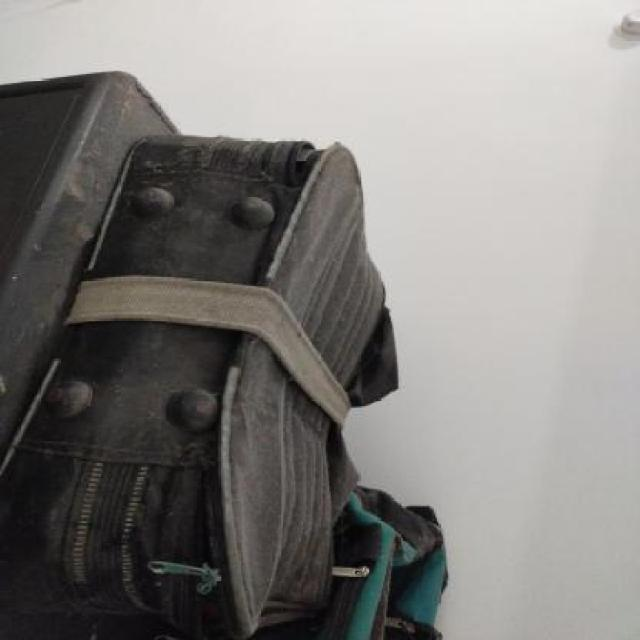backpack: (0, 124, 404, 640)
